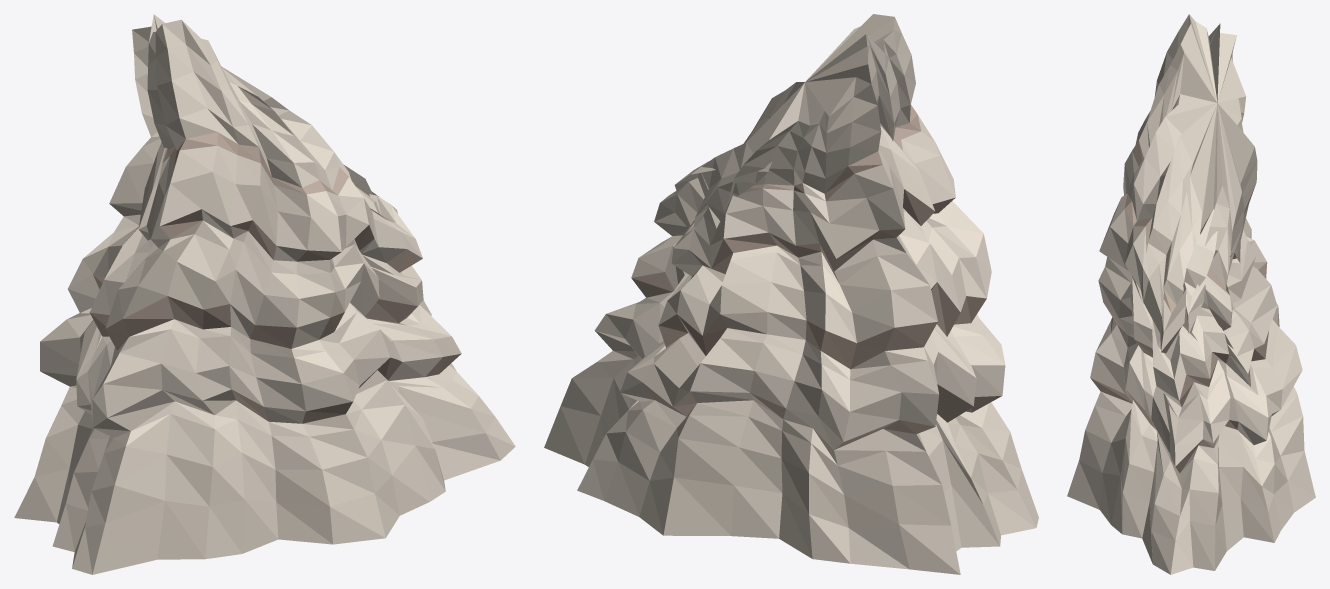
The model's file is canyon_spur.glb.
3 renders of one model, left to right at view 1: azimuth 30°, elevation 25°; view 2: azimuth 150°, elevation 25°; view 3: azimuth 270°, elevation 25°, orthographic. The views are drawn at different scales.
Parts seen in each view (by area): view 1: canyon_spur; view 2: canyon_spur; view 3: canyon_spur.
Part boxes in pixels (box(x1,y1,x2,y2)): canyon_spur: box(14, 14, 515, 574); canyon_spur: box(544, 14, 1038, 574); canyon_spur: box(1067, 14, 1315, 574).
Bounding box in the file's own units: 15.48 × 16.09 × 8.64.
